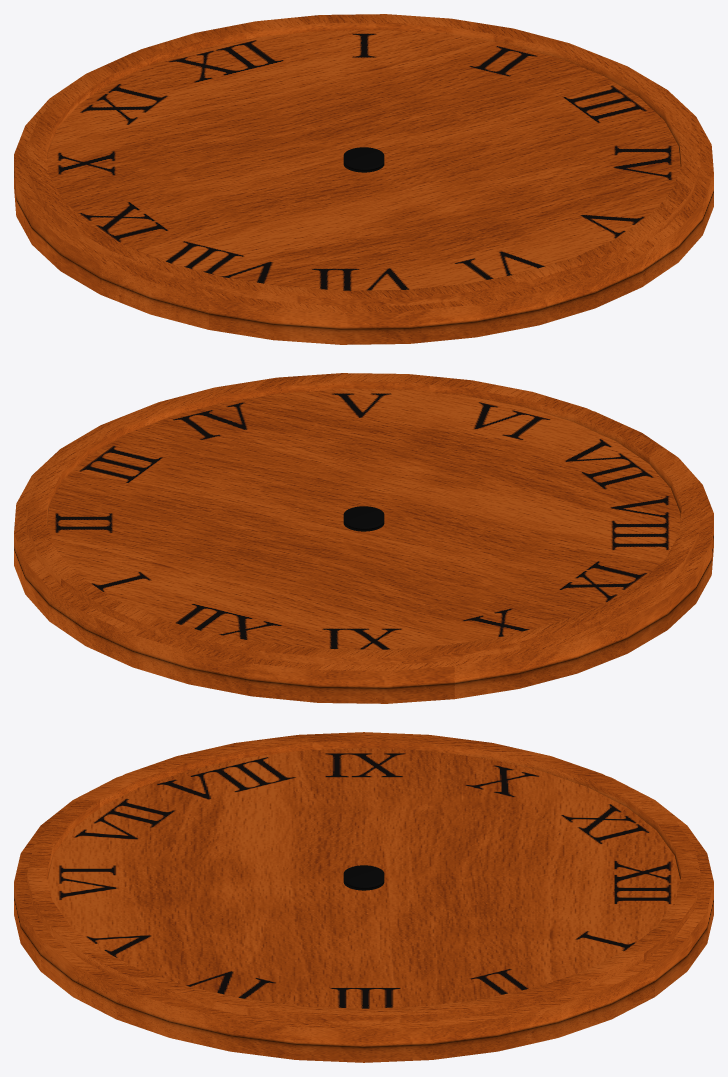
File: redwoodclock.gltf
3 views of the same model, one above another, from view 1: azimuth 30°, elevation 25°; view 2: azimuth 150°, elevation 25°; view 3: azimuth 270°, elevation 25° (orthographic).
Visible parts, largest first — view 1: Cylinder; view 2: Cylinder; view 3: Cylinder.
Part boxes in pixels (<box>): Cylinder: <box>14,14,713,344</box>; Cylinder: <box>14,373,713,703</box>; Cylinder: <box>14,732,713,1062</box>.
Bounding box in the file's own units: 0.0314 × 0.00203 × 0.0314.
Materials: 3 (2 with a texture image).
